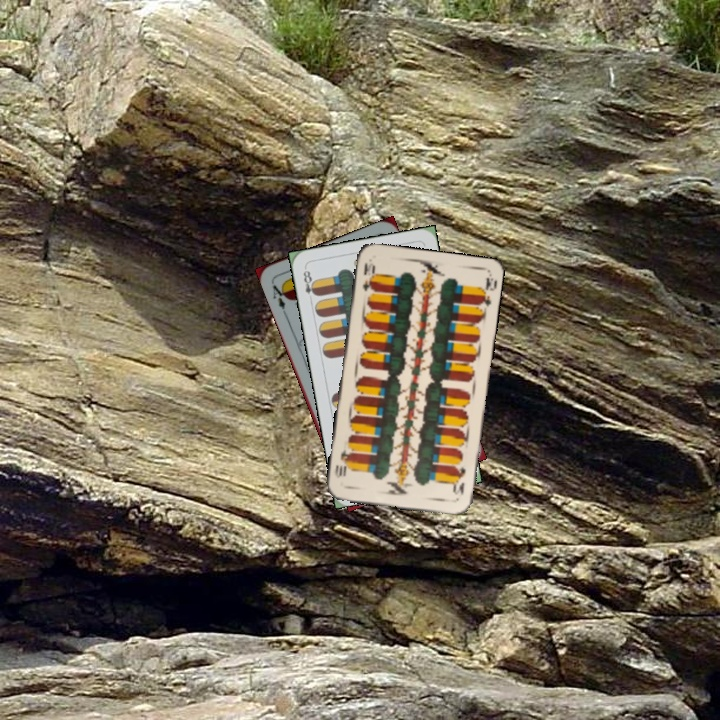E10: (358, 258, 378, 294), (450, 462, 468, 497)
E8: (299, 264, 320, 305)
EA: (268, 280, 291, 317)
